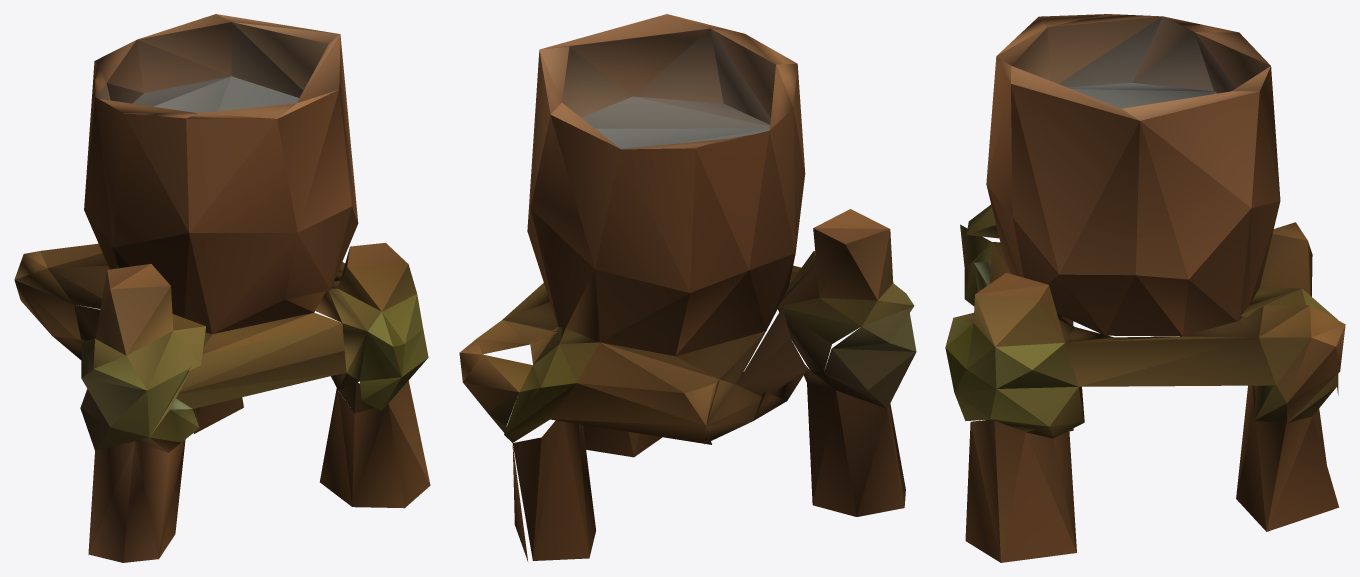
File: building-solarStill-cup.glb
3 views of the same model, side by side, from view 1: azimuth 30°, elevation 25°; view 2: azimuth 150°, elevation 25°; view 3: azimuth 270°, elevation 25° (orthographic). The views are drawn at different scales.
Parts seen in each view (by area): view 1: 0_solarStill-cup; view 2: 0_solarStill-cup; view 3: 0_solarStill-cup.
Boxes of the visible parts, <box> form: 0_solarStill-cup: <box>14,14,430,562</box>; 0_solarStill-cup: <box>459,14,916,561</box>; 0_solarStill-cup: <box>945,14,1345,562</box>.
Bounding box in the file's own units: 0.3498 × 0.4197 × 0.3499.
